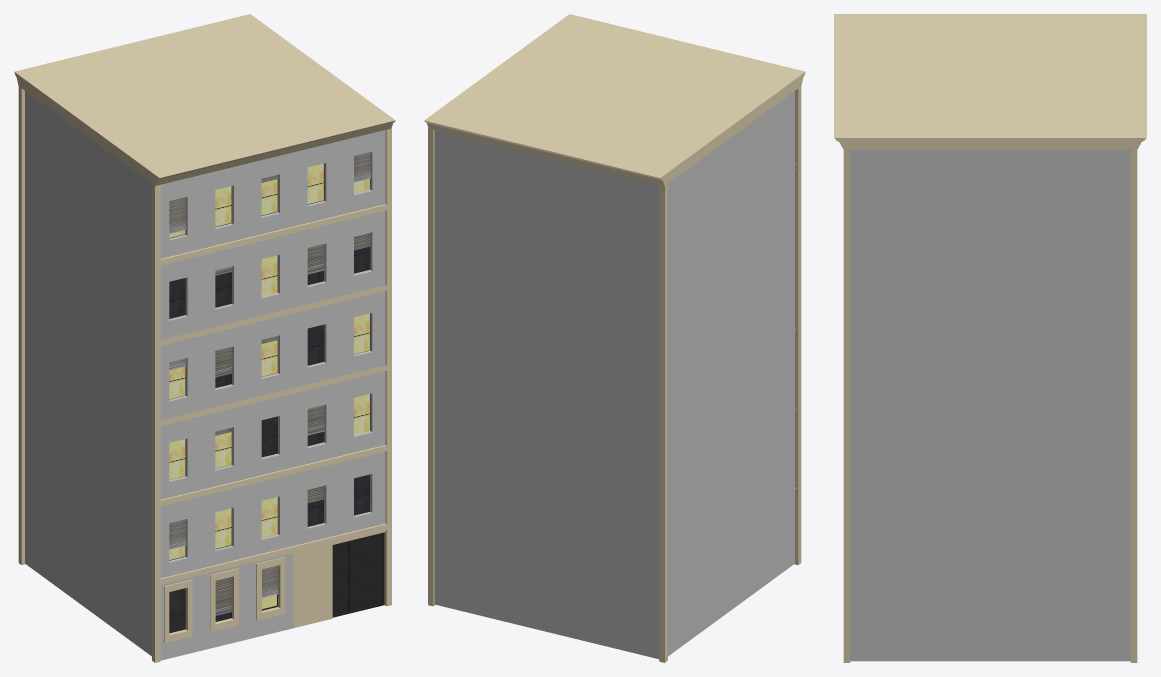
The model's file is Bloc_030F.fbx.
3 views of the same model, side by side, from view 1: azimuth 30°, elevation 25°; view 2: azimuth 150°, elevation 25°; view 3: azimuth 270°, elevation 25° (orthographic). The views are drawn at different scales.
Parts seen in each view (by area): view 1: Bloc_30F; view 2: Bloc_30F; view 3: Bloc_30F.
Part boxes in pixels (x1,y1,x2,y2): Bloc_30F: (14,14,395,662); Bloc_30F: (424,14,805,662); Bloc_30F: (834,14,1146,662).
Size of the model in its own units: 982 by 1820 by 923.
